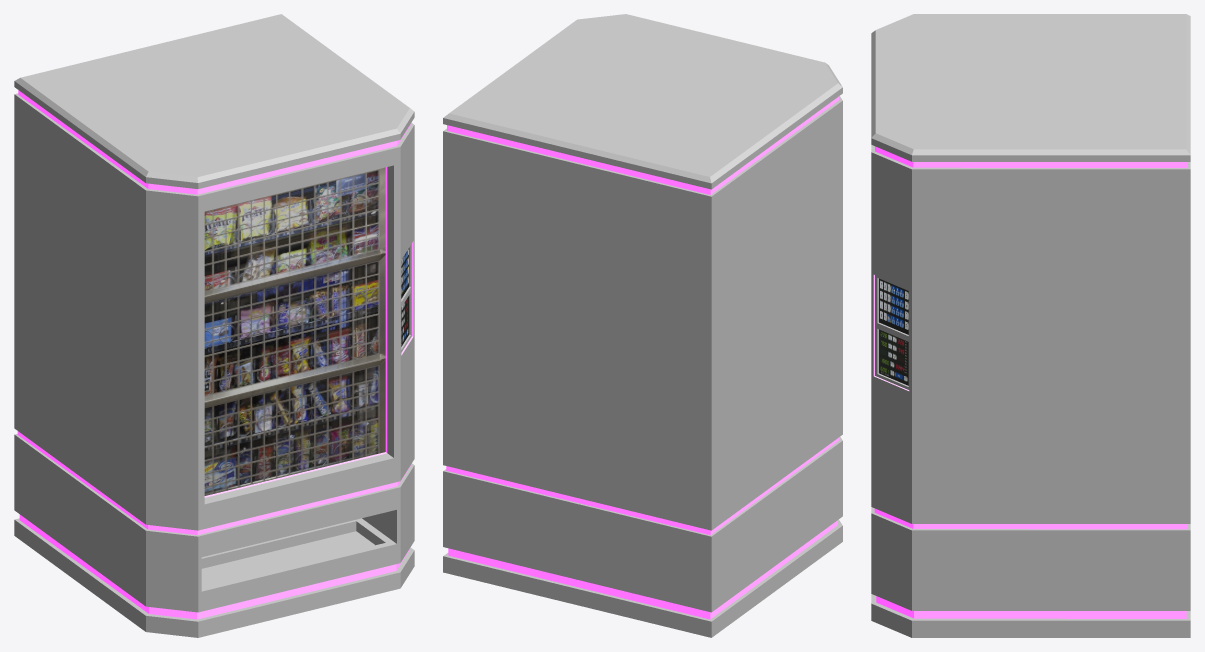
Rendered from vending_machine.glb.
3 views of the same model, side by side, from view 1: azimuth 30°, elevation 25°; view 2: azimuth 150°, elevation 25°; view 3: azimuth 270°, elevation 25° (orthographic). The views are drawn at different scales.
Parts seen in each view (by area): view 1: Vending machine_0, Vending machine.003_3; view 2: Vending machine_0; view 3: Vending machine_0, Vending machine.001_1, Vending machine.002_2.
Part boxes in pixels (x1,y1,x2,y2): Vending machine_0: [14, 14, 414, 637]; Vending machine.003_3: [204, 167, 385, 495]; Vending machine_0: [443, 14, 842, 637]; Vending machine_0: [871, 14, 1190, 637]; Vending machine.001_1: [879, 329, 908, 385]; Vending machine.002_2: [879, 278, 908, 334].
Bounding box in the file's own units: 1.23 × 2 × 1.19.
5 materials, 2 textured.
